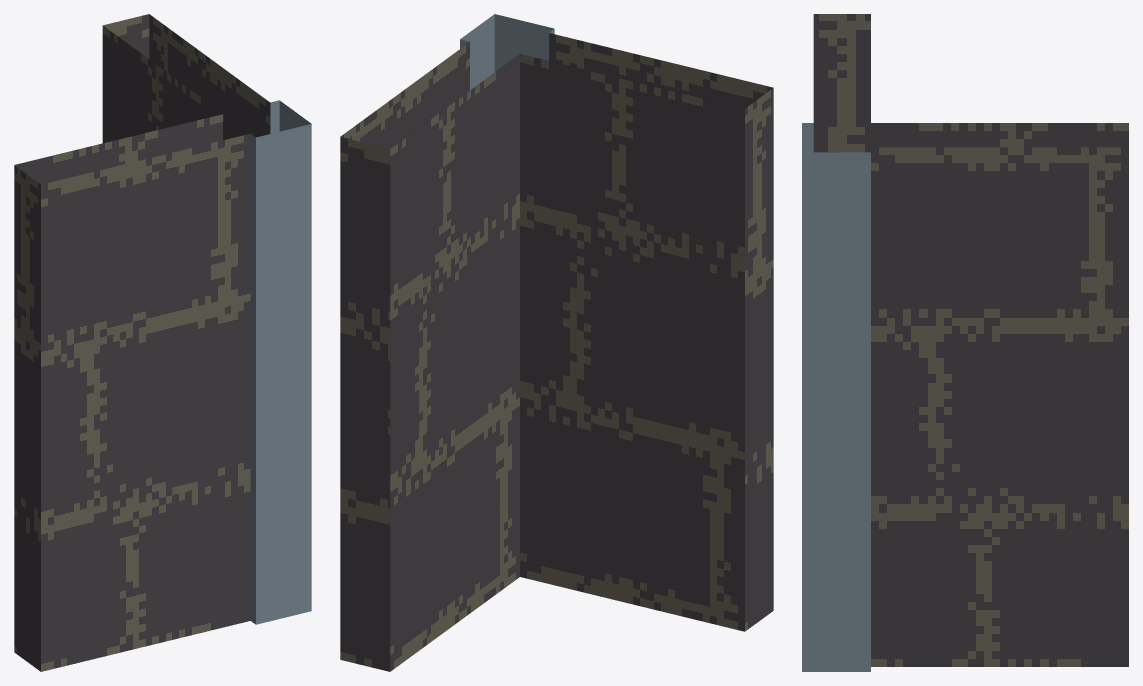
File: corner_02.glb
The picture shows the model from 3 angles, left to right: view 1: azimuth 30°, elevation 25°; view 2: azimuth 150°, elevation 25°; view 3: azimuth 270°, elevation 25°; orthographic projection. The views are drawn at different scales.
Parts seen in each view (by area): view 1: Corner_02; view 2: Corner_02; view 3: Corner_02.
Boxes of the visible parts, x1=… form: Corner_02: x1=14, y1=14, x2=311, y2=671; Corner_02: x1=340, y1=14, x2=773, y2=671; Corner_02: x1=802, y1=14, x2=1128, y2=671.
Bounding box in the file's own units: 2.28 × 4 × 2.28.
Materials: 1 (1 with a texture image).
